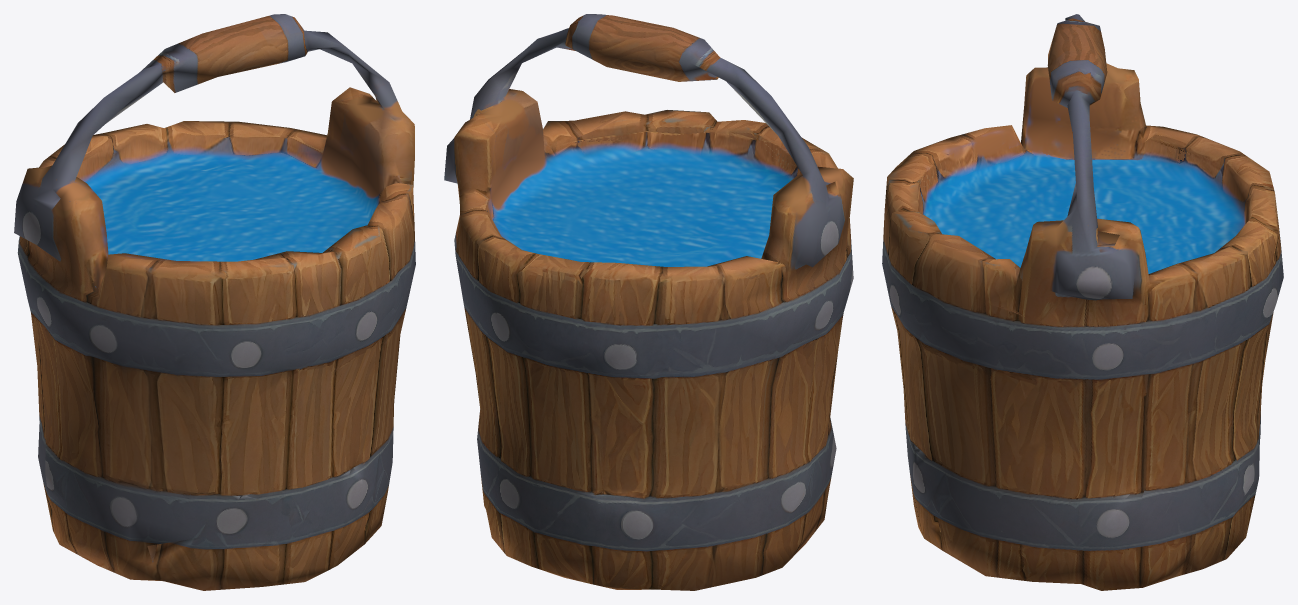
Rendered from Bucket.glb.
3 renders of one model, left to right at view 1: azimuth 30°, elevation 25°; view 2: azimuth 150°, elevation 25°; view 3: azimuth 270°, elevation 25°, orthographic.
Visible parts, largest first — view 1: texture_mapping; view 2: texture_mapping; view 3: texture_mapping.
Part boxes in pixels (bbox=[...]): texture_mapping: bbox=[14, 14, 415, 590]; texture_mapping: bbox=[444, 14, 853, 590]; texture_mapping: bbox=[882, 14, 1283, 590].
Bounding box in the file's own units: 0.7881 × 0.9975 × 0.7354.
1 material, 1 textured.
